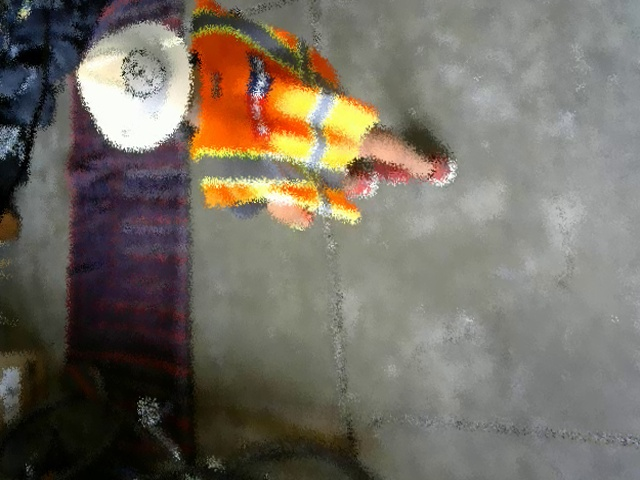three: (122, 49, 162, 97)
